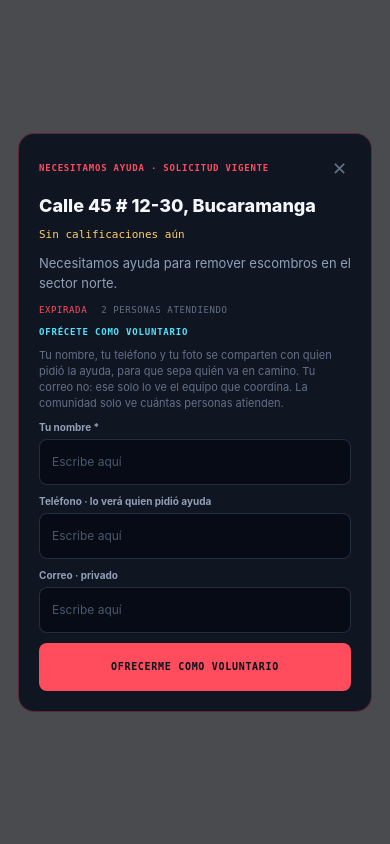
HelpRequestActionSheet (CHG-148) › sin cuenta, el formulario de voluntario exige nombre y registra
This screenshot has width=390, height=844.
# Sin nombre no envía.
Step 1. Click the button with aria-label "Enviar mis datos como voluntario" → point(195, 666), box [39, 642, 351, 690]
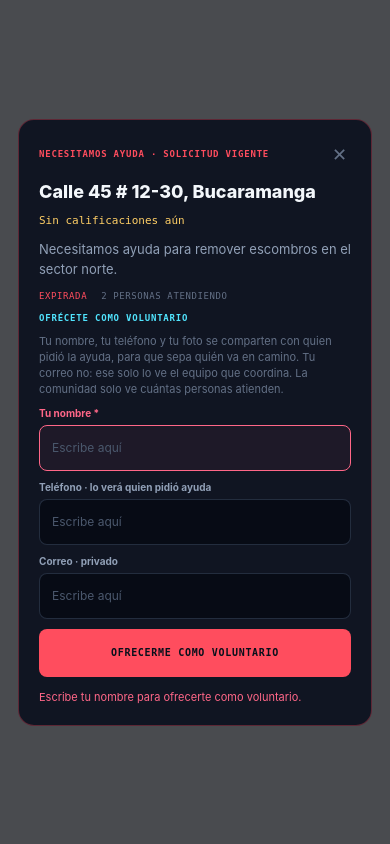
Check: the text "Escribe tu nombre para ofrecerte como voluntario." is shown, box [39, 690, 301, 704]
# Con nombre, registra y confirma.
Step 2. Type "María Restrepo" into the field named "Tu nombre *" → point(195, 448), box [39, 424, 351, 470]
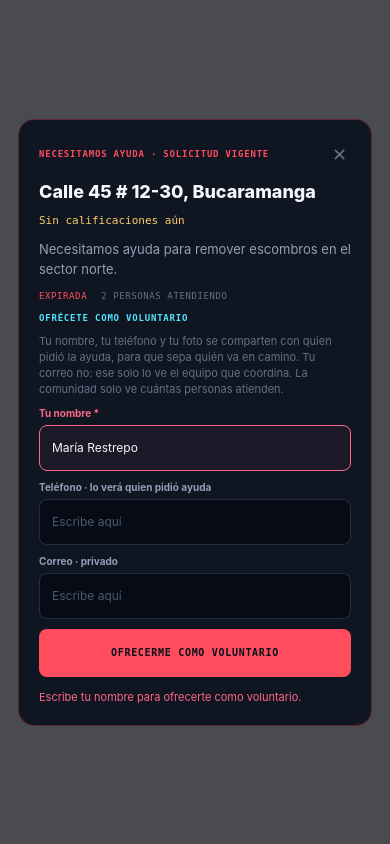
Step 3. Click the button with aria-label "Enviar mis datos como voluntario" → point(195, 652), box [39, 628, 351, 676]
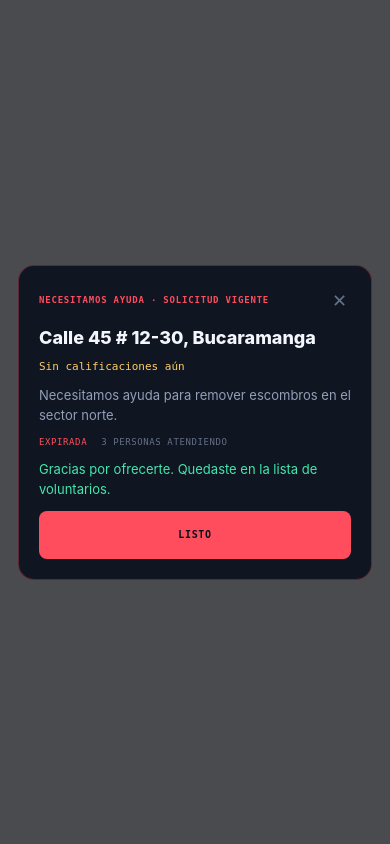
Check: the text "Gracias por ofrecerte. Quedaste en la lista de voluntarios." is shown, box [39, 458, 351, 498]
Check: the text "3 PERSONAS ATENDIENDO" is shown, box [101, 436, 228, 446]
